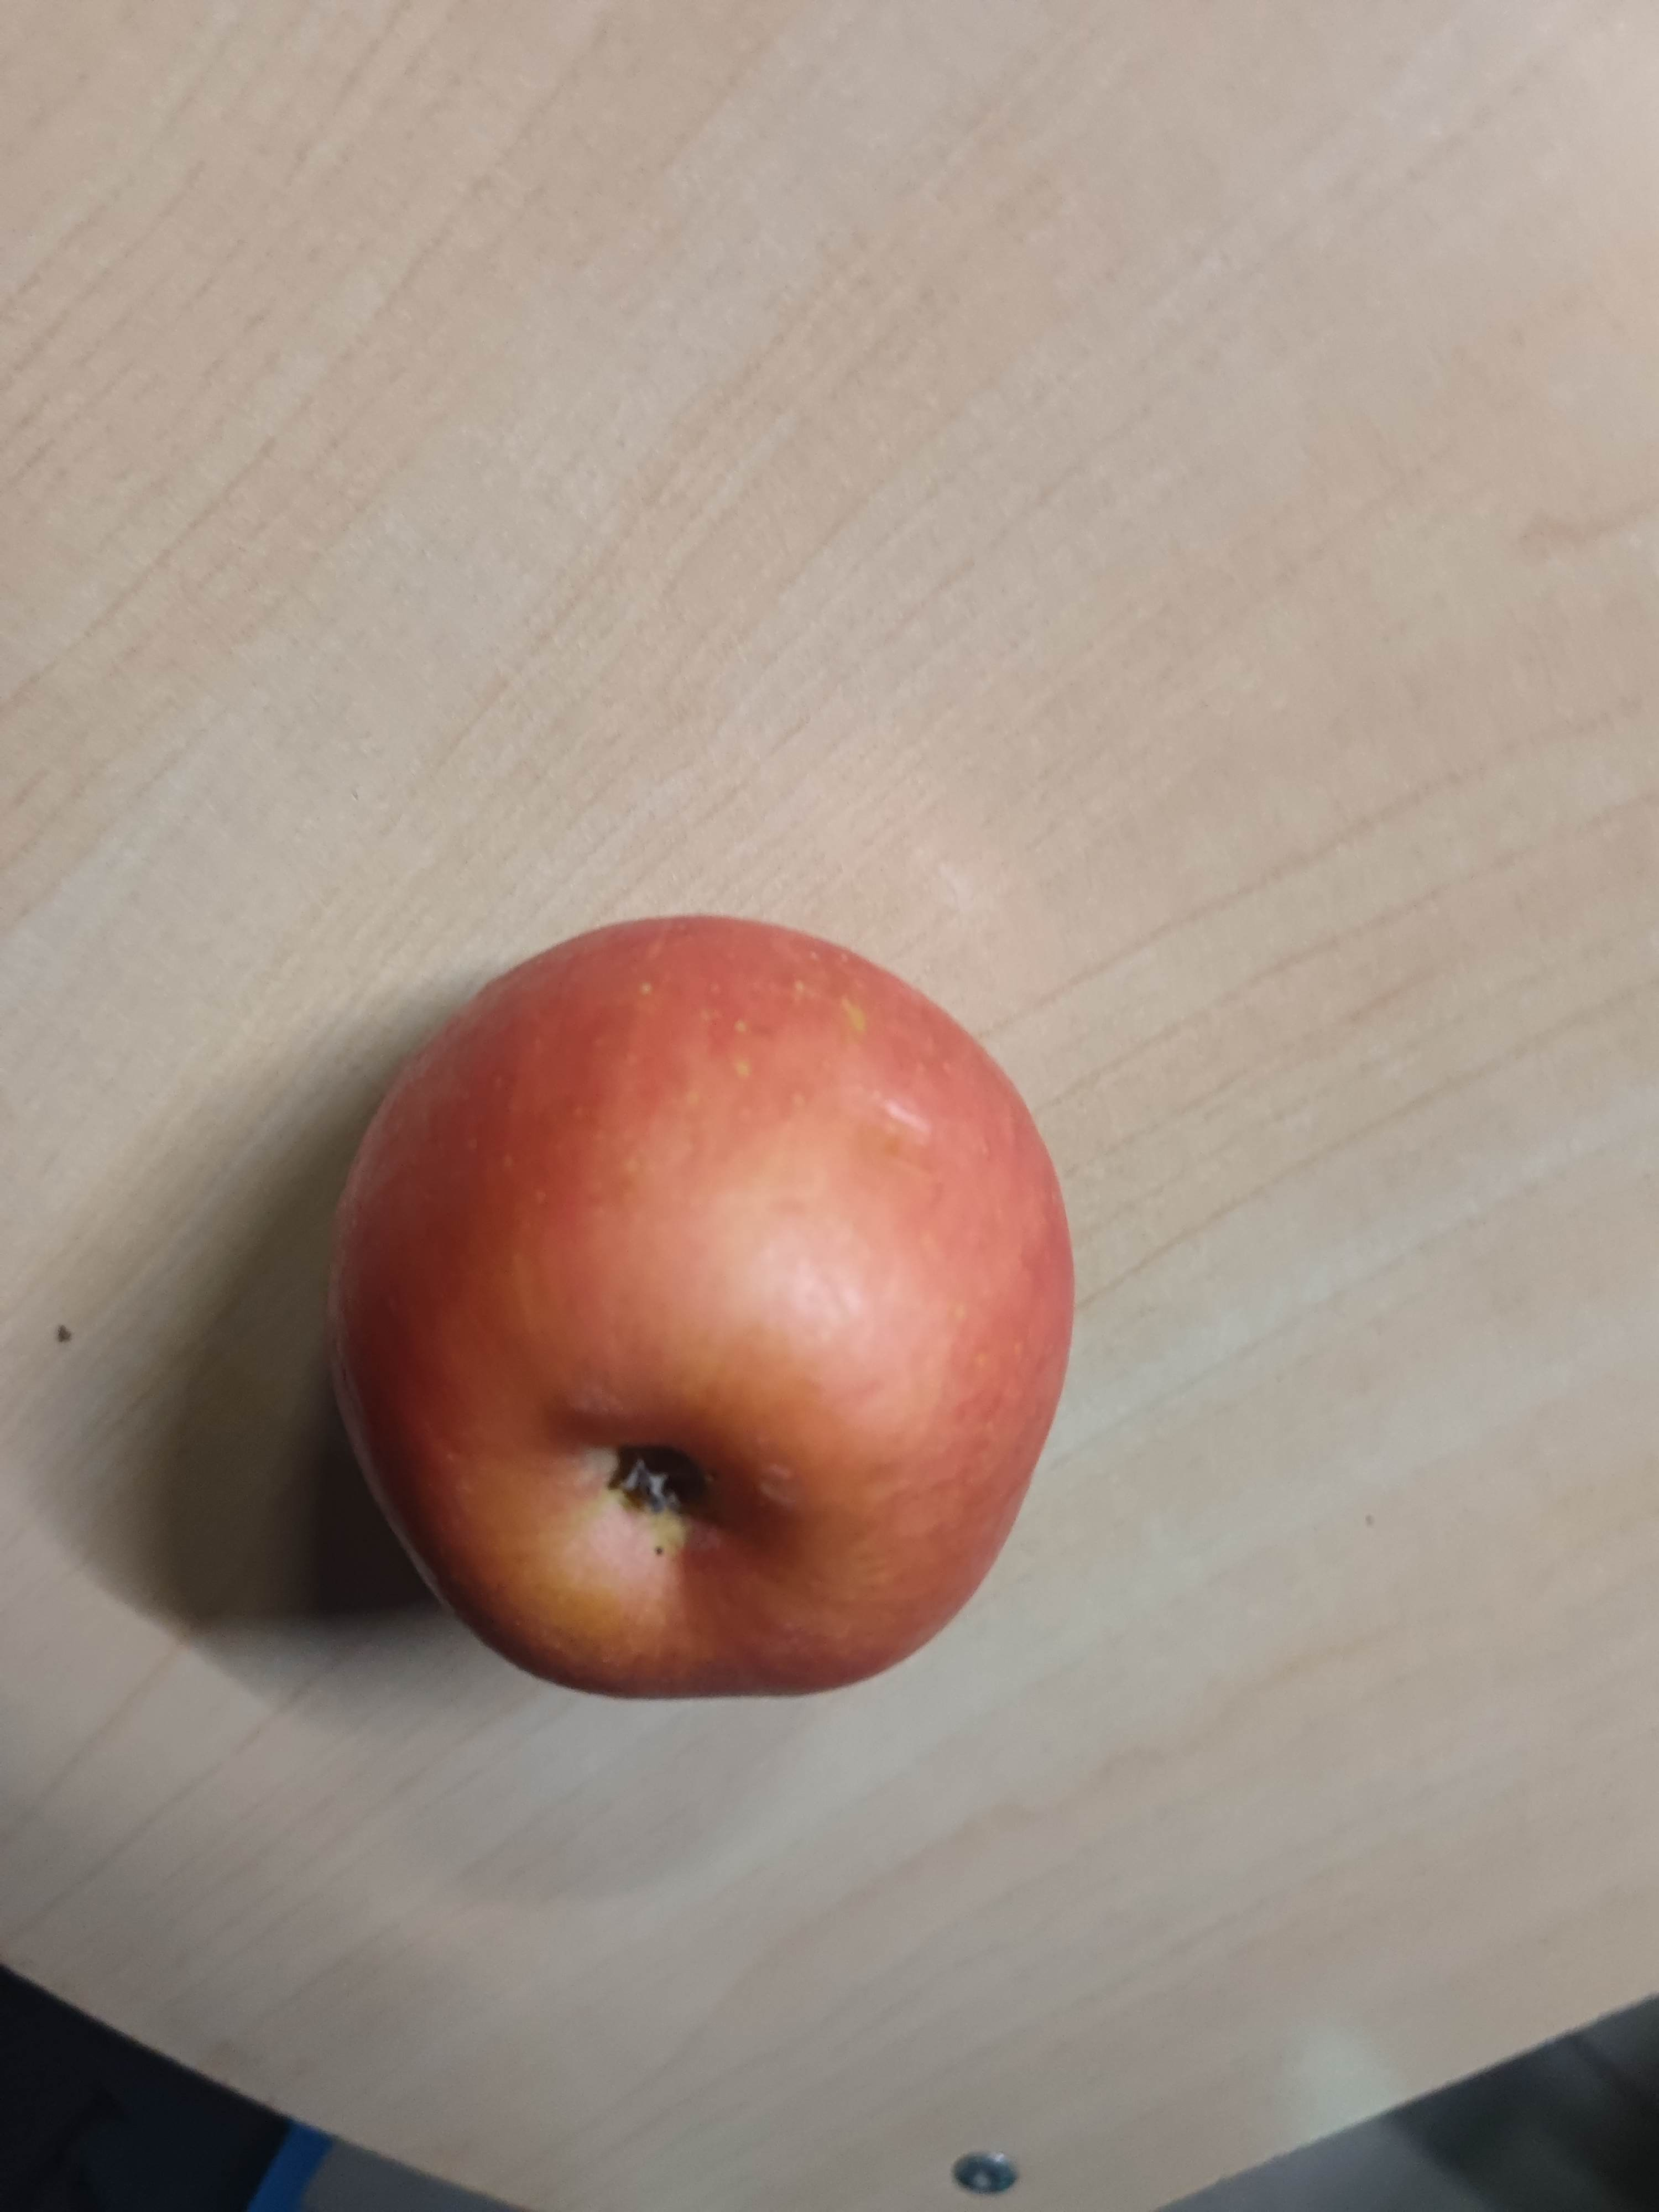apple: (333, 911, 1082, 1709)
